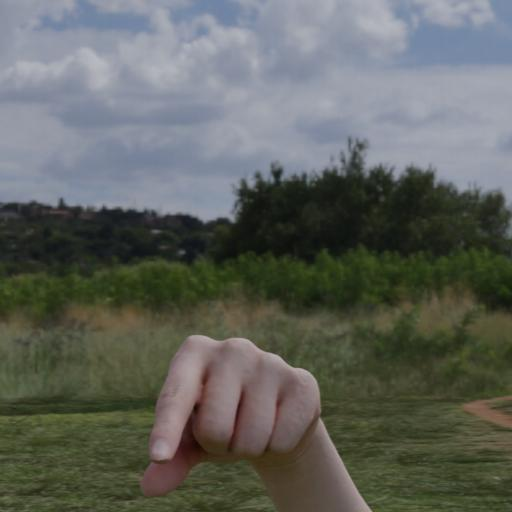Q: (135, 312, 333, 512)
